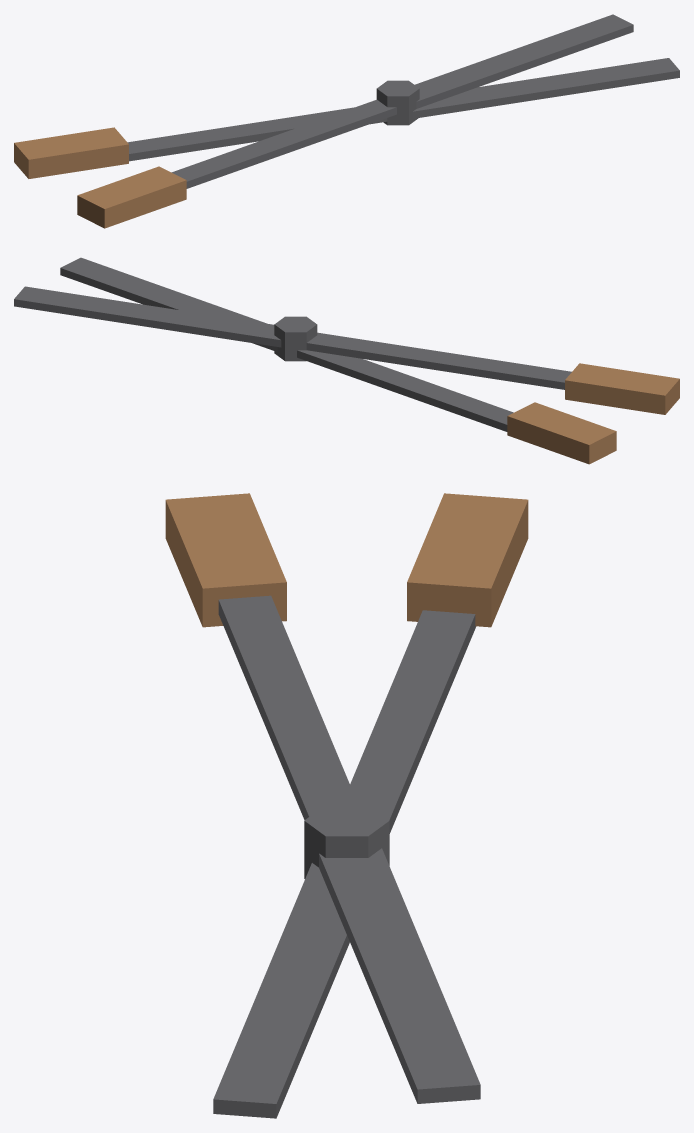
Rendered from prop-tin-snips.fbx.
3 renders of one model, top to bottom at view 1: azimuth 30°, elevation 25°; view 2: azimuth 150°, elevation 25°; view 3: azimuth 270°, elevation 25°, orthographic. The views are drawn at different scales.
Visible parts, largest first — view 1: prop-tin-snips; view 2: prop-tin-snips; view 3: prop-tin-snips.
Boxes of the visible parts, box(x1,y1,x2,y2) form: prop-tin-snips: box(14, 14, 679, 228); prop-tin-snips: box(14, 257, 679, 464); prop-tin-snips: box(165, 493, 528, 1118).
Bounding box in the file's own units: 25.85 × 1.2 × 6.79.
